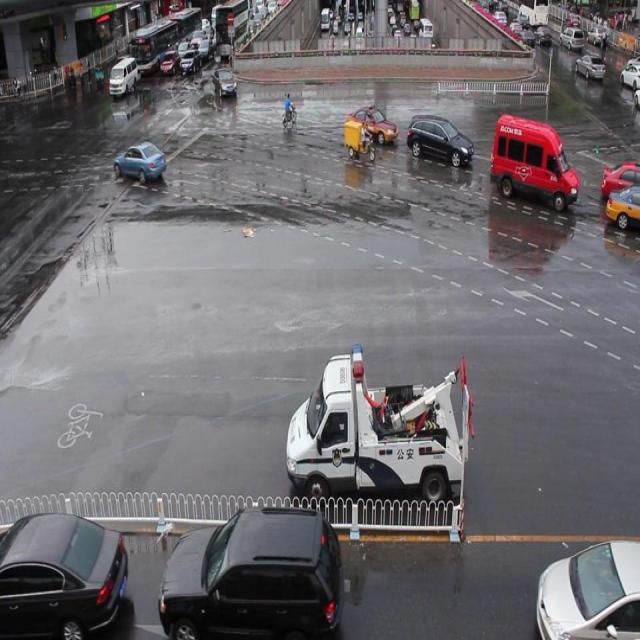bus: (287, 344, 475, 513)
car: (160, 505, 343, 640), (1, 512, 127, 640), (536, 537, 640, 640), (408, 116, 474, 170), (114, 144, 167, 184), (347, 105, 398, 145), (602, 159, 640, 202), (606, 186, 640, 231)
truck: (490, 113, 580, 213)
